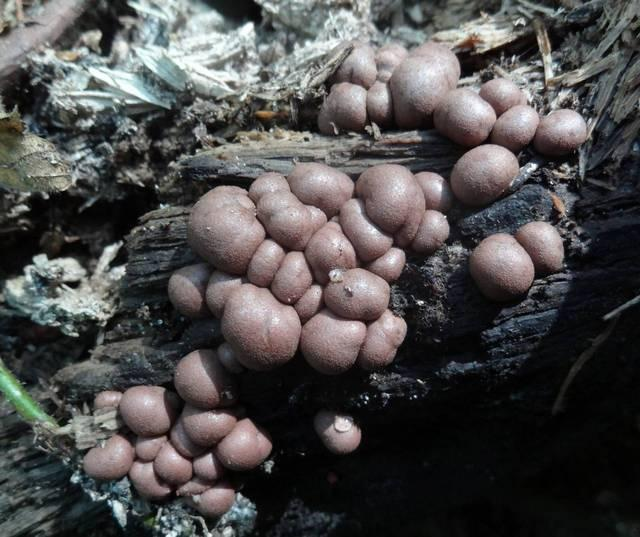poisonous_mushroom: (80, 37, 587, 517), (167, 159, 450, 375), (316, 39, 587, 205), (81, 347, 273, 517), (219, 282, 301, 370), (185, 184, 265, 273), (467, 231, 535, 301), (449, 142, 519, 206), (322, 266, 390, 320), (533, 107, 587, 155), (313, 409, 362, 454)
